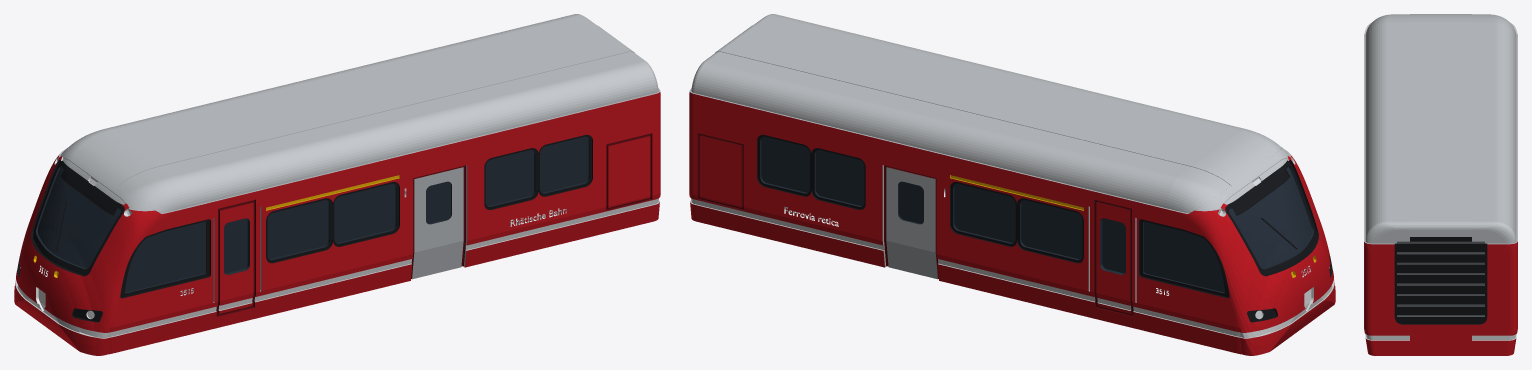
Rendered from allegra.glb.
The picture shows the model from 3 angles, left to right: view 1: azimuth 30°, elevation 25°; view 2: azimuth 150°, elevation 25°; view 3: azimuth 270°, elevation 25°; orthographic projection. The views are drawn at different scales.
Visible parts, largest first — view 1: rhb_allegra; view 2: rhb_allegra; view 3: rhb_allegra.
Boxes of the visible parts, x1=… form: rhb_allegra: x1=14, y1=14, x2=660, y2=355; rhb_allegra: x1=689, y1=14, x2=1335, y2=355; rhb_allegra: x1=1364, y1=14, x2=1517, y2=355.
Size of the model in its own units: 150 by 37.7 by 40.
